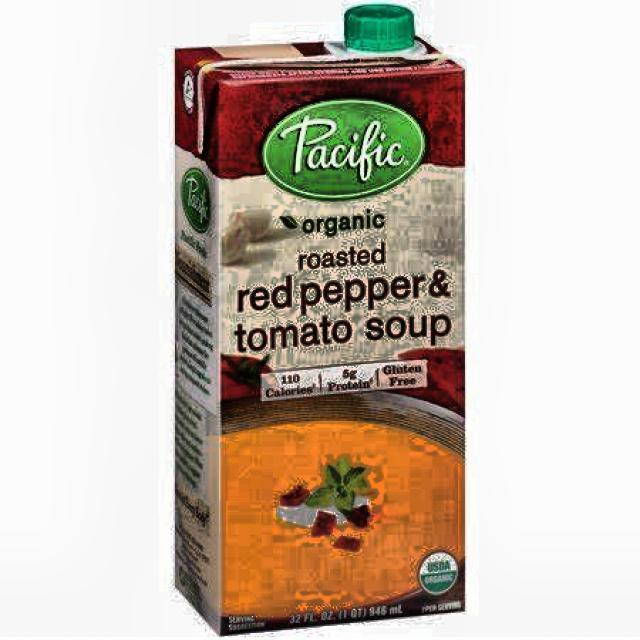cardboard: (172, 25, 467, 636)
